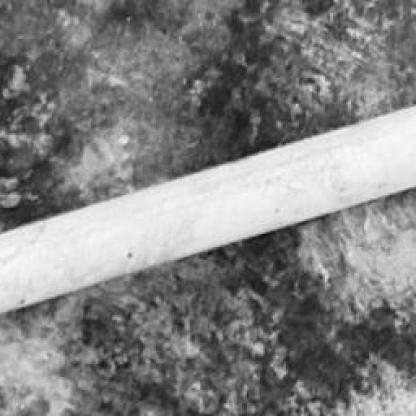PVC: (0, 107, 414, 314)
